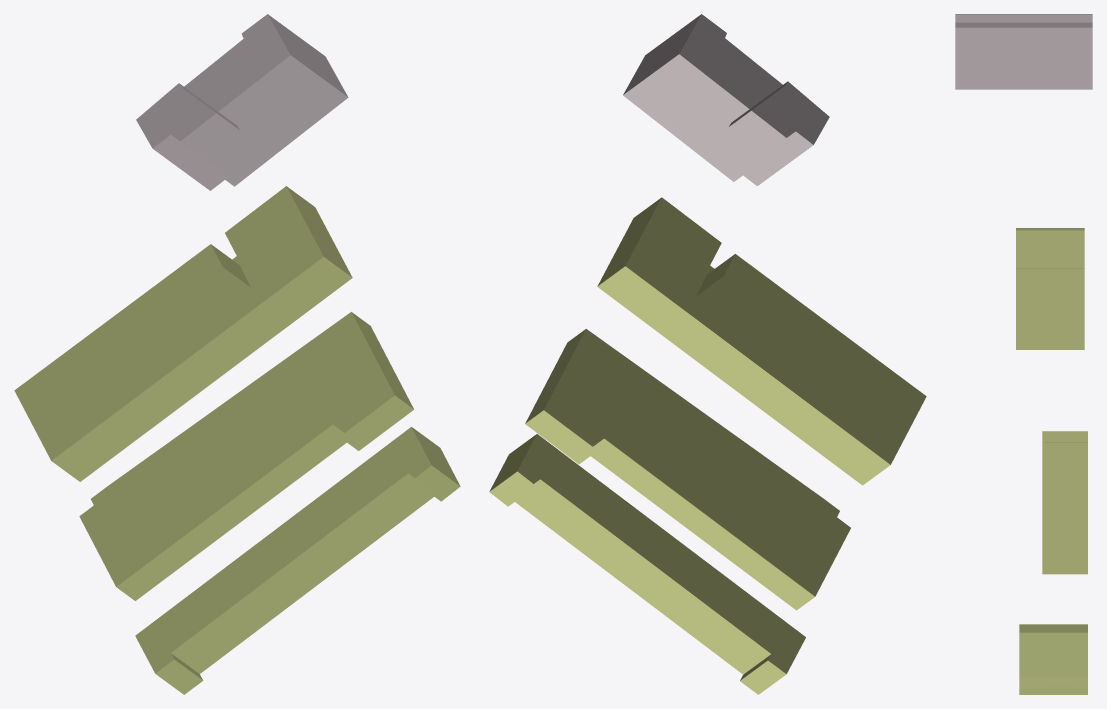
The picture shows the model from 3 angles, left to right: view 1: azimuth 30°, elevation 25°; view 2: azimuth 150°, elevation 25°; view 3: azimuth 270°, elevation 25°; orthographic projection. The views are drawn at different scales.
Parts seen in each view (by area): view 1: 0_1_0_2_1_2_3_3; view 2: 0_1_0_2_1_2_3_3; view 3: 0_1_0_2_1_2_3_3.
Part boxes in pixels (<box>): 0_1_0_2_1_2_3_3: <box>14,14,460,694</box>; 0_1_0_2_1_2_3_3: <box>489,14,926,694</box>; 0_1_0_2_1_2_3_3: <box>955,14,1092,694</box>.
Size of the model in its own units: 75.16 by 108 by 18.
